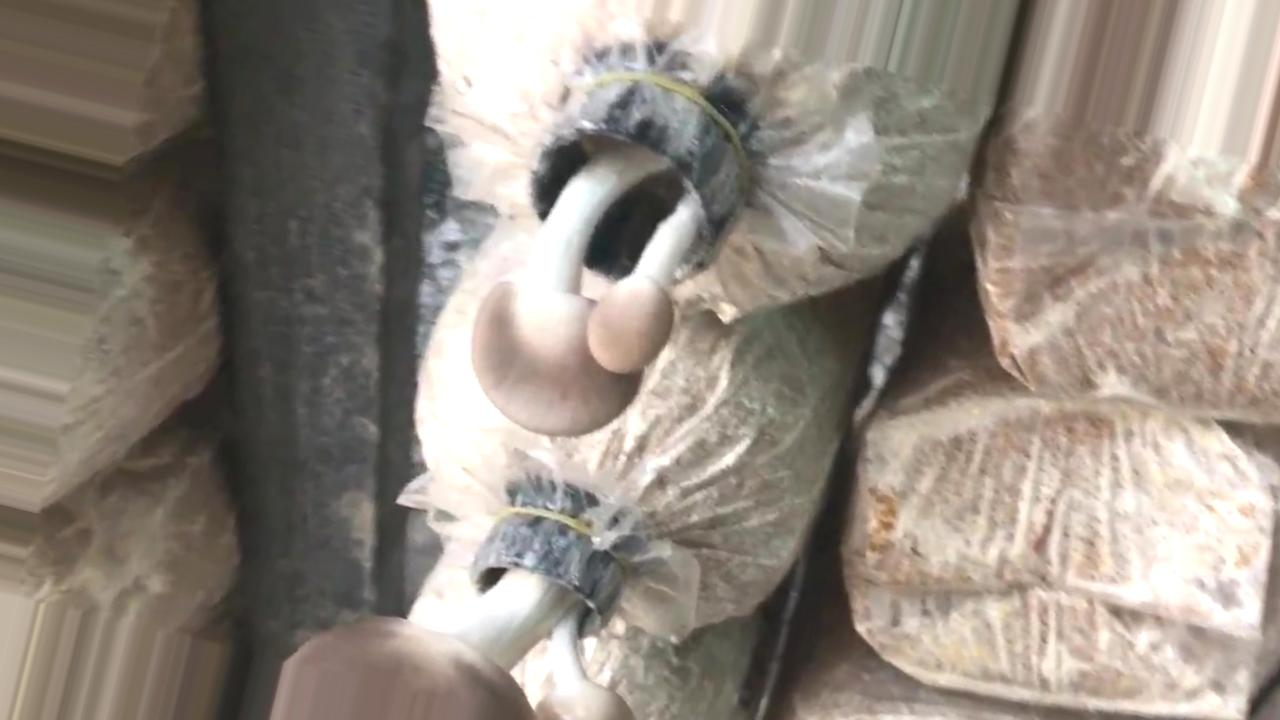nam: (470, 77, 742, 437), (272, 506, 629, 720)
